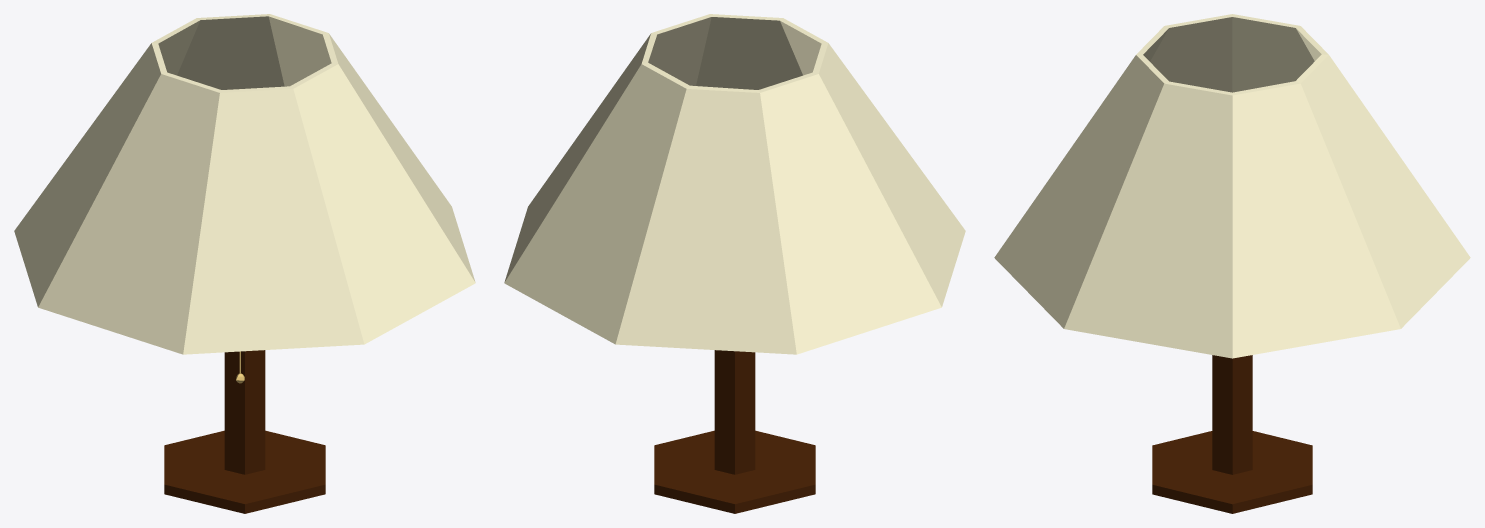
Rendered from low_poly_lamp.gltf.
The picture shows the model from 3 angles, left to right: view 1: azimuth 30°, elevation 25°; view 2: azimuth 150°, elevation 25°; view 3: azimuth 270°, elevation 25°; orthographic projection.
Visible parts, largest first — view 1: pCylinder1, pCylinder2; view 2: pCylinder1, pCylinder2; view 3: pCylinder1, pCylinder2.
Part boxes in pixels (x1,y1,x2,y2): pCylinder1: [14, 14, 475, 354]; pCylinder2: [164, 350, 325, 513]; pCylinder1: [504, 14, 965, 354]; pCylinder2: [654, 350, 815, 513]; pCylinder1: [994, 14, 1470, 358]; pCylinder2: [1152, 355, 1312, 513].
Size of the model in its own units: 0.0514 by 0.05 by 0.0514.
